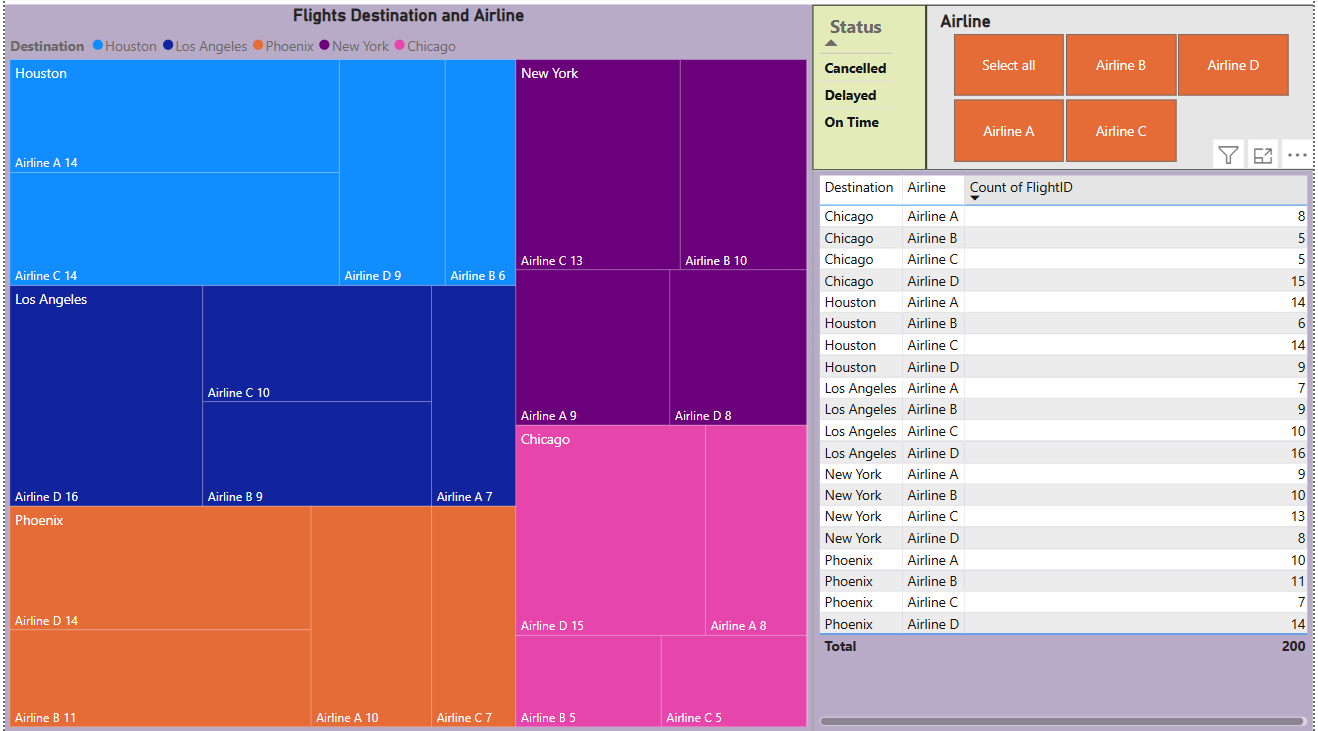

This screenshot's page, from the dashboard's own definition file:
{"tool":"powerbi","page":{"name":"Flights by Airline and Destination","canvas":[1280,720],"ordinal":5},"visuals":[{"type":"treemap","title":"Flights  Destination and Airline","fields":{"Group":["Flight_Information - flight_information.Destination"],"Details":["Flight_Information - flight_information.Airline"],"Values":["CountNonNull(Flight_Information - flight_information.FlightID)"]},"box":[0,8.6,789.9,711.7],"z":0},{"type":"slicer","fields":{"Values":["Flight_Information - flight_information.Airline"]},"box":[901.2,8.6,379.1,161.4],"z":1000},{"type":"tableEx","fields":{"Values":["Flight_Information - flight_information.Status"]},"box":[789.9,8.6,111.3,161.4],"z":2000},{"type":"tableEx","title":"Flights  Destination and Airline","fields":{"Values":["Flight_Information - flight_information.Destination","Flight_Information - flight_information.Airline","CountNonNull(Flight_Information - flight_information.FlightID)"]},"box":[789.9,170,490.4,550.3],"z":2001}]}

Visuals, with their boxes in screenshot pixels (x1, y1, x2, y2), scaled from the page's 1280x720 canvas onto the 1318x731 screenshot:
"Flights  Destination and Airline" treemap: <bbox>0, 9, 813, 730</bbox>
slicer - Flight_Information - flight_information.Airline: <bbox>928, 9, 1317, 173</bbox>
tableEx - Flight_Information - flight_information.Status: <bbox>813, 9, 928, 173</bbox>
"Flights  Destination and Airline" tableEx: <bbox>813, 173, 1317, 730</bbox>
